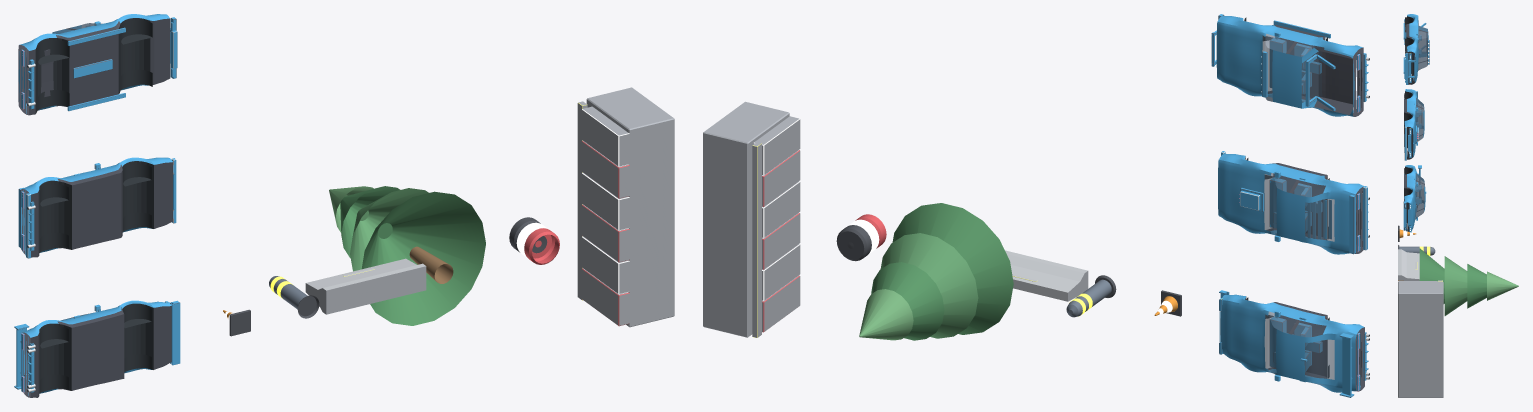
Rendered from softbodydriver_assets.glb.
The picture shows the model from 3 angles, left to right: view 1: azimuth 30°, elevation 25°; view 2: azimuth 150°, elevation 25°; view 3: azimuth 270°, elevation 25°; orthographic projection. The views are drawn at different scales.
Visible parts, largest first — view 1: EuroNCAP_Barrier, Pine_Tree, Gavril_Offroad_4x4, ETK_Sport_Coupe, Bruckell_V8_Muscle, Jersey_Barrier, Tire_Stack, Steel_Bollard; view 2: EuroNCAP_Barrier, Pine_Tree, Gavril_Offroad_4x4, Bruckell_V8_Muscle, ETK_Sport_Coupe, Jersey_Barrier, Tire_Stack, Steel_Bollard; view 3: EuroNCAP_Barrier, Pine_Tree, Gavril_Offroad_4x4, ETK_Sport_Coupe, Bruckell_V8_Muscle, Jersey_Barrier, Steel_Bollard.
Boxes of the visible parts, x1=… form: EuroNCAP_Barrier: x1=577, y1=87, x2=674, y2=327; Pine_Tree: x1=329, y1=186, x2=485, y2=325; Gavril_Offroad_4x4: x1=18, y1=14, x2=177, y2=115; ETK_Sport_Coupe: x1=14, y1=300, x2=180, y2=397; Bruckell_V8_Muscle: x1=18, y1=157, x2=176, y2=258; Jersey_Barrier: x1=305, y1=258, x2=426, y2=314; Tire_Stack: x1=509, y1=217, x2=559, y2=264; Steel_Bollard: x1=269, y1=276, x2=319, y2=318; EuroNCAP_Barrier: x1=703, y1=101, x2=800, y2=337; Pine_Tree: x1=859, y1=203, x2=1013, y2=340; Gavril_Offroad_4x4: x1=1211, y1=14, x2=1369, y2=116; Bruckell_V8_Muscle: x1=1218, y1=151, x2=1369, y2=254; ETK_Sport_Coupe: x1=1219, y1=290, x2=1369, y2=397; Jersey_Barrier: x1=1005, y1=250, x2=1088, y2=301; Tire_Stack: x1=836, y1=214, x2=886, y2=261; Steel_Bollard: x1=1066, y1=275, x2=1116, y2=317; EuroNCAP_Barrier: x1=1398, y1=280, x2=1443, y2=397; Pine_Tree: x1=1398, y1=248, x2=1518, y2=315; Gavril_Offroad_4x4: x1=1403, y1=14, x2=1429, y2=84; ETK_Sport_Coupe: x1=1403, y1=165, x2=1426, y2=232; Bruckell_V8_Muscle: x1=1404, y1=89, x2=1424, y2=160; Jersey_Barrier: x1=1398, y1=249, x2=1419, y2=280; Steel_Bollard: x1=1398, y1=245, x2=1435, y2=255.
Bounding box in the file's own units: 18.94 × 11.85 × 5.85.
